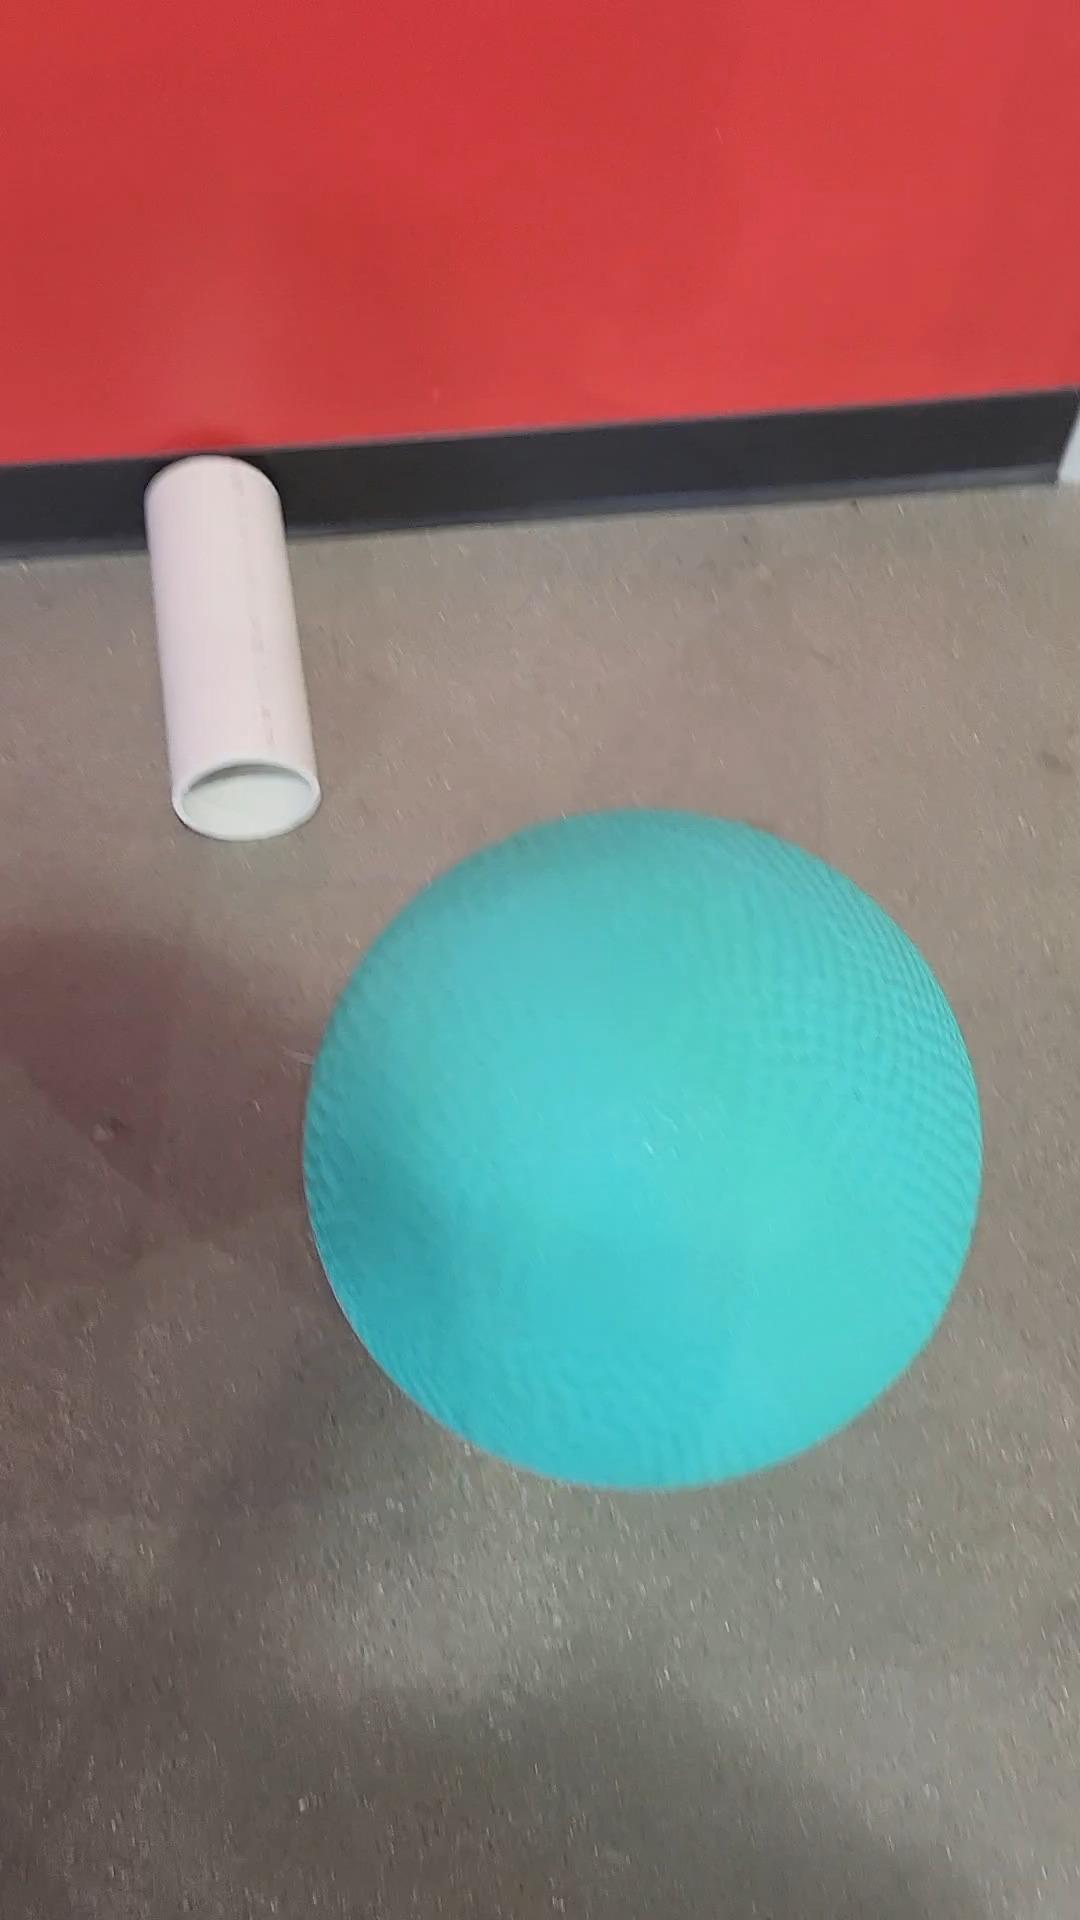algae: (291, 775, 990, 1536)
coral: (96, 436, 306, 889)
